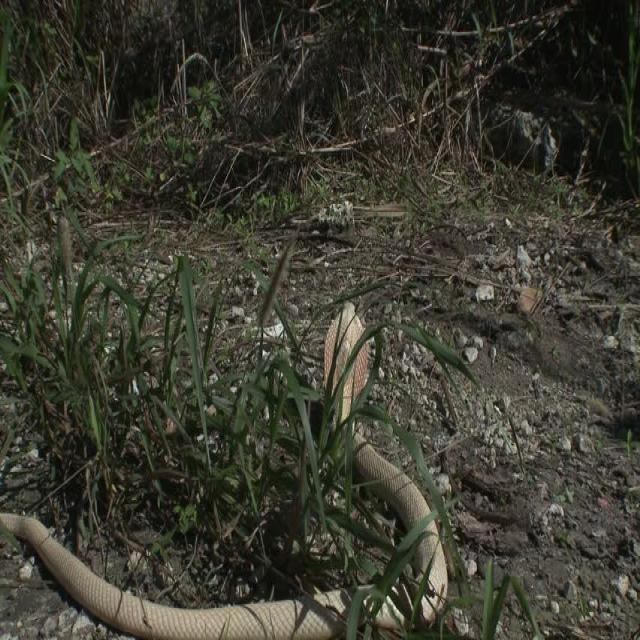Snake: (1, 299, 448, 637)
